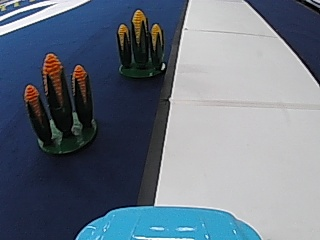corn: (23, 51, 99, 155), (114, 7, 168, 77)
